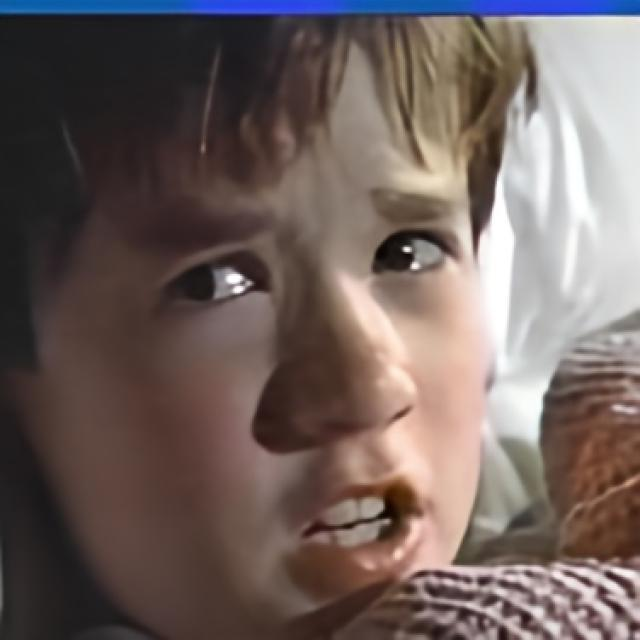fear: (0, 10, 487, 640)
